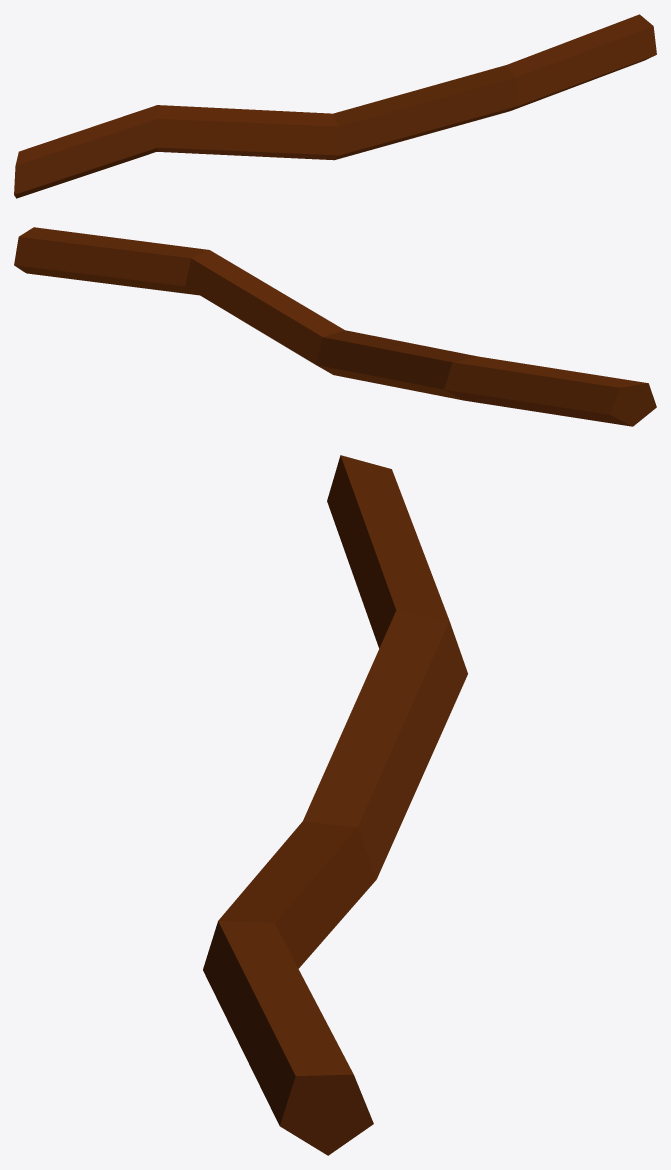
File: grana2.fbx
3 views of the same model, one above another, from view 1: azimuth 30°, elevation 25°; view 2: azimuth 150°, elevation 25°; view 3: azimuth 270°, elevation 25° (orthographic). The views are drawn at different scales.
Parts seen in each view (by area): view 1: grana2; view 2: grana2; view 3: grana2.
Boxes of the visible parts, box(x1,y1,x2,y2) form: grana2: box(14, 14, 656, 198); grana2: box(14, 227, 656, 426); grana2: box(203, 455, 467, 1155).
Bounding box in the file's own units: 77.26 × 8.34 × 14.06.
